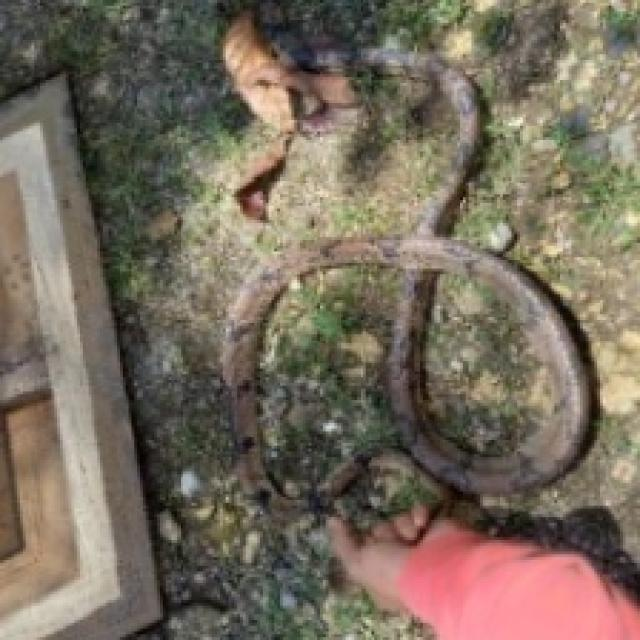dog-toothed cat snake: (222, 49, 599, 513)
